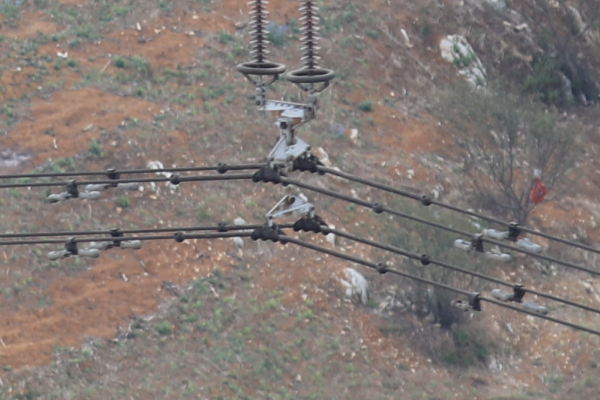damper: (484, 219, 543, 253), (487, 283, 549, 314), (453, 230, 511, 263), (44, 176, 102, 203), (85, 166, 140, 192), (85, 227, 141, 252), (46, 235, 101, 260)
damper_defect: (448, 291, 486, 317)
